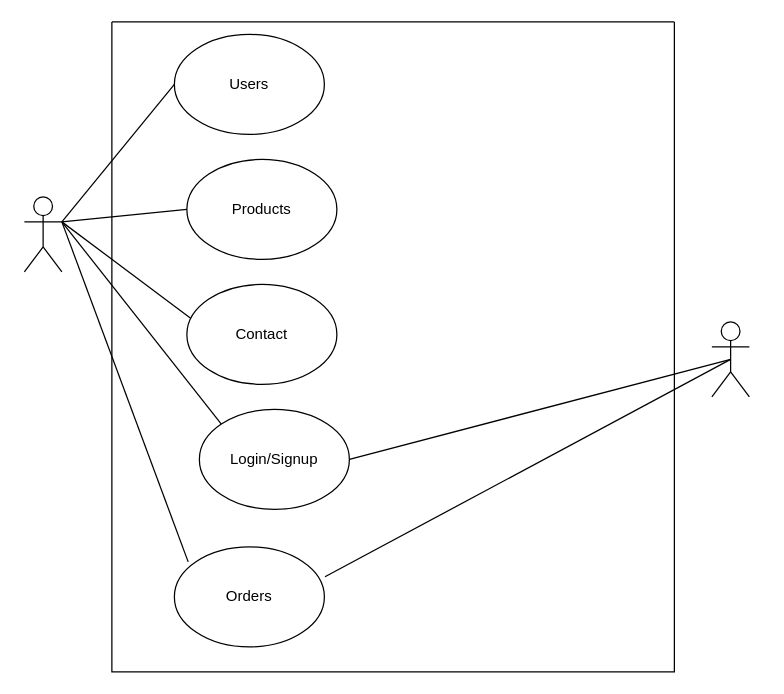
This 784x694 diagram has some shape labels left out. Here are the shapes that lost their labels. From the top down, the centre of each, then its label:
the point at 42,234: Admin
the point at 730,359: Customer
